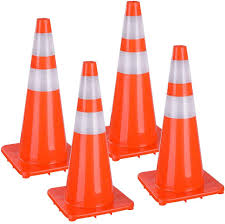cones: (46, 61, 135, 217), (3, 15, 81, 179), (146, 45, 225, 204), (93, 1, 164, 161)
